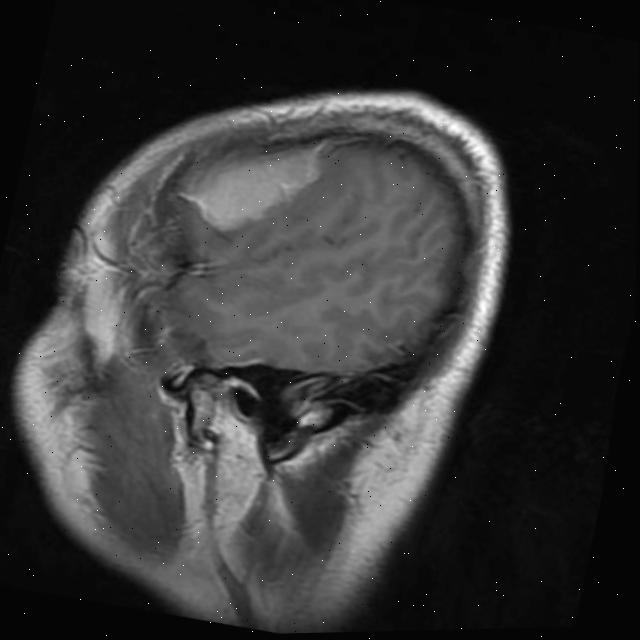Meningioma: (170, 115, 327, 248)
